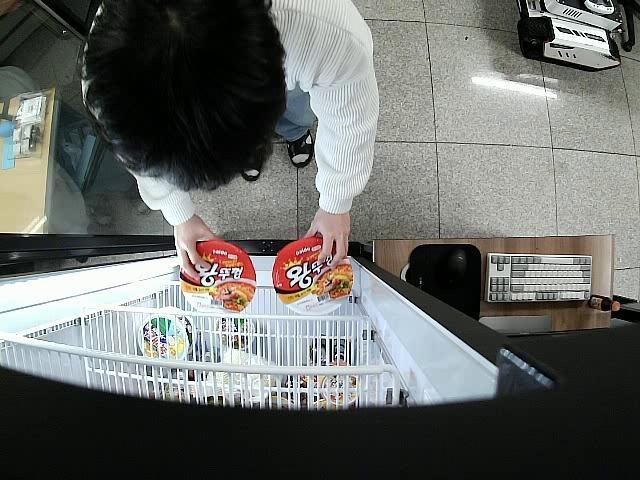10_wangTtukkeong: (272, 238, 352, 315), (180, 240, 256, 314)
